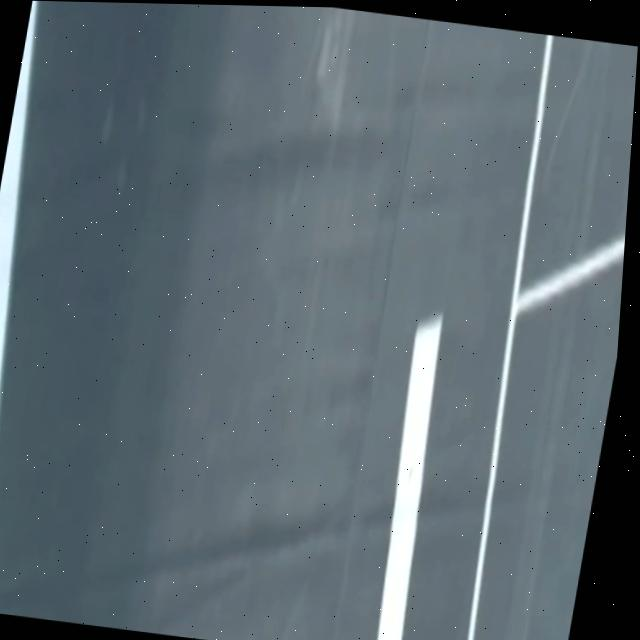center: (376, 316, 441, 640)
left: (0, 1, 36, 385)
